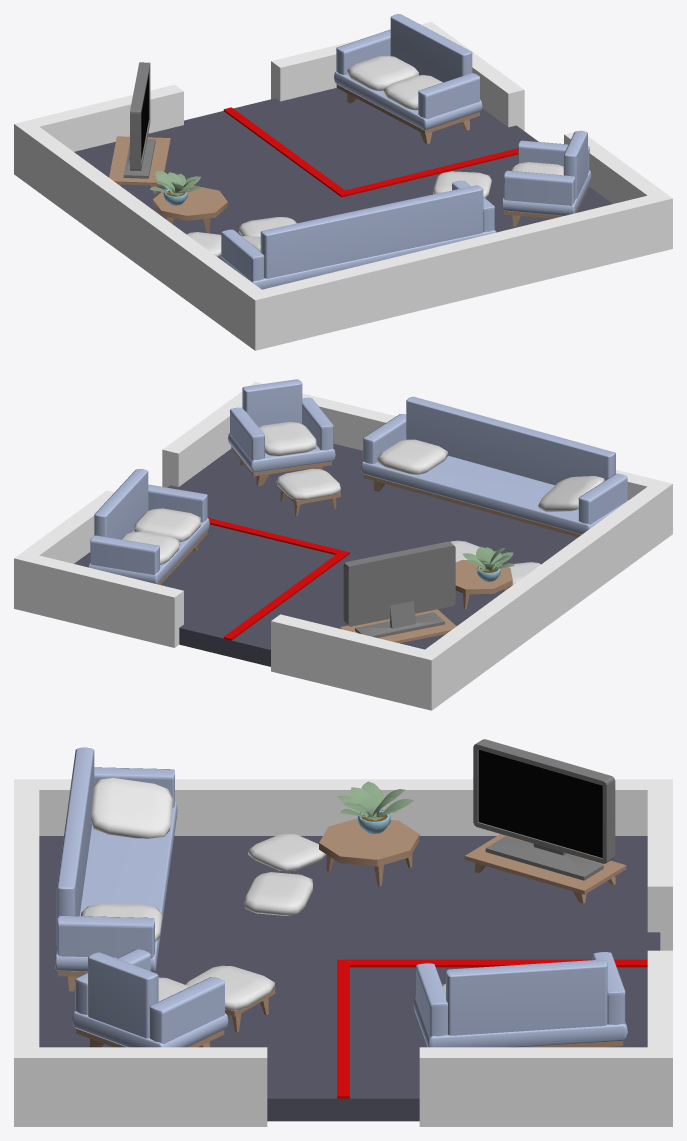
Rendered from L_Salon_Classique.fbx.
3 views of the same model, one above another, from view 1: azimuth 30°, elevation 25°; view 2: azimuth 150°, elevation 25°; view 3: azimuth 270°, elevation 25° (orthographic). The views are drawn at different scales.
Parts seen in each view (by area): view 1: L_Salon_Classique; view 2: L_Salon_Classique; view 3: L_Salon_Classique.
Boxes of the visible parts, bbox=[...] form: L_Salon_Classique: bbox=[14, 14, 672, 350]; L_Salon_Classique: bbox=[14, 379, 672, 710]; L_Salon_Classique: bbox=[14, 739, 672, 1126].
Bounding box in the file's own units: 26 × 6.13 × 26.
